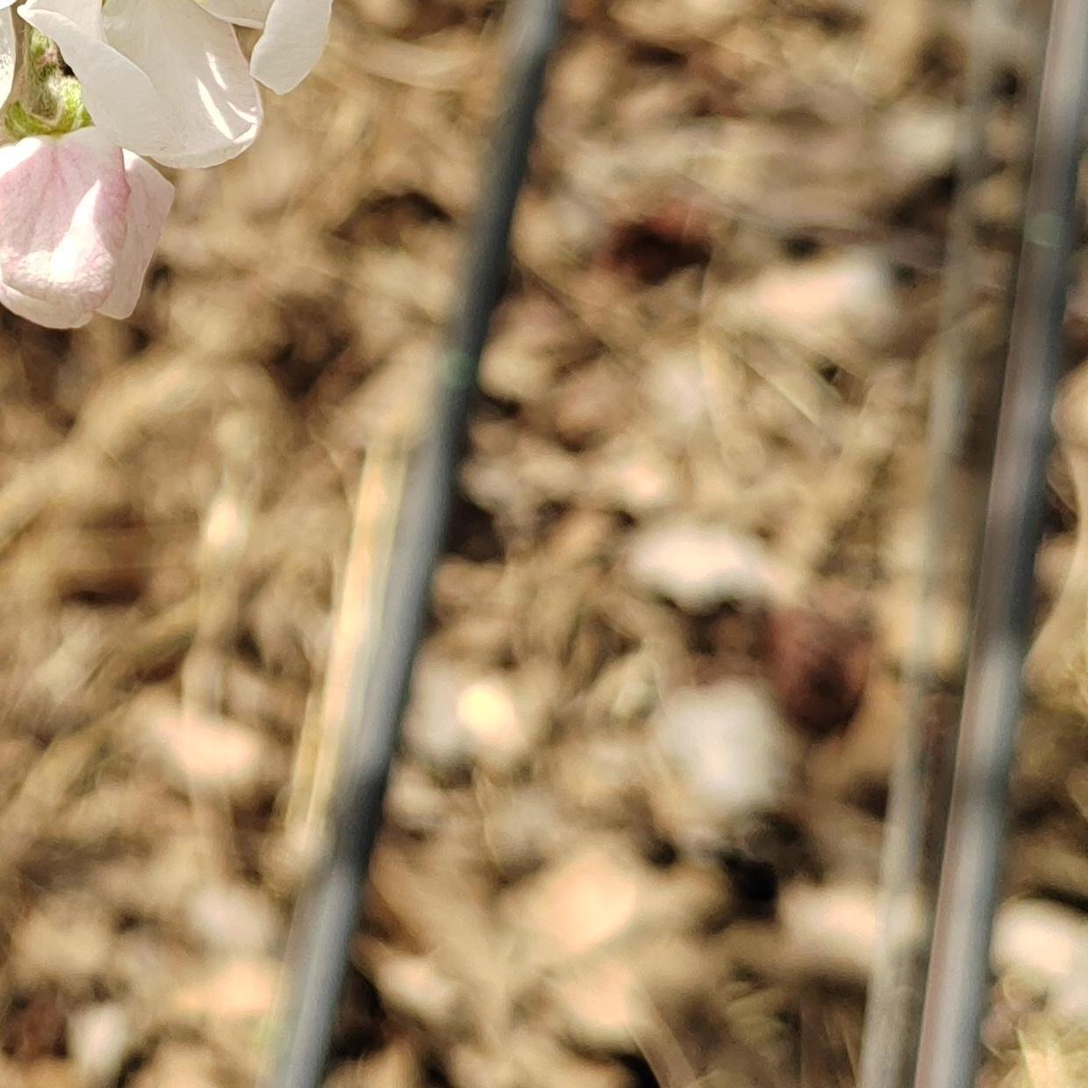apple_flower: (0, 0, 333, 329)
